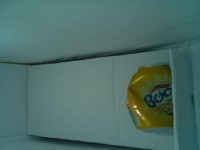kaleng: (126, 65, 172, 134)
